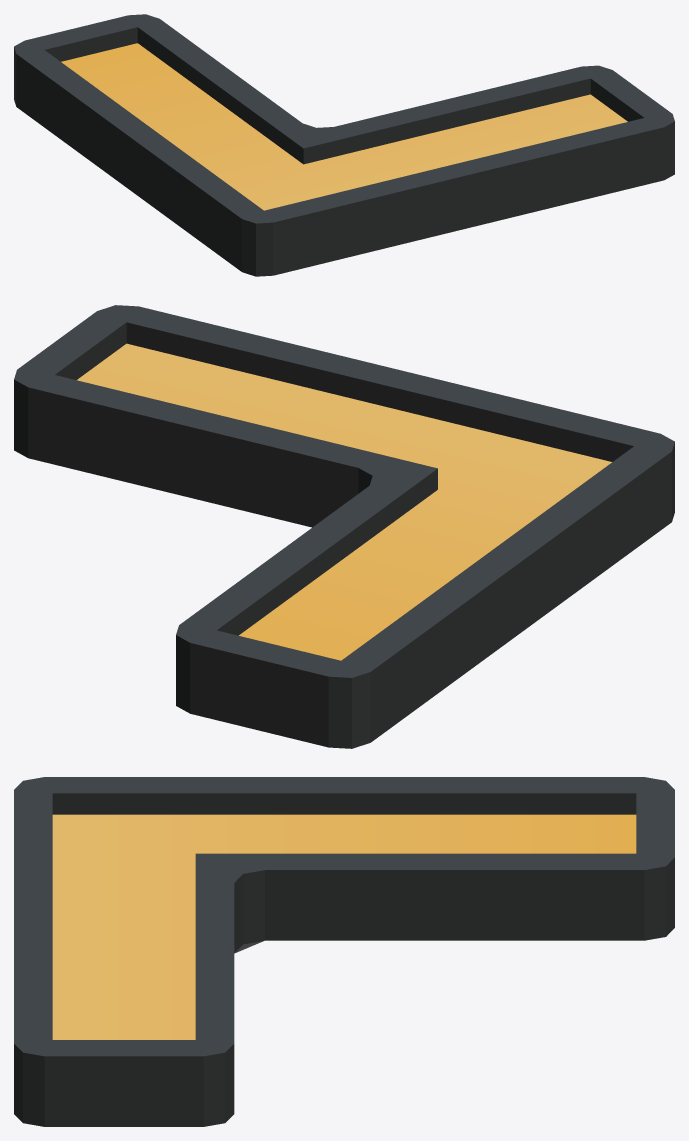
File: LightCorner_01.glb
3 views of the same model, one above another, from view 1: azimuth 30°, elevation 25°; view 2: azimuth 150°, elevation 25°; view 3: azimuth 270°, elevation 25° (orthographic). The views are drawn at different scales.
Visible parts, largest first — view 1: LightCorner_01; view 2: LightCorner_01; view 3: LightCorner_01.
Boxes of the visible parts, x1,y1,x2,y2 form: LightCorner_01: (14,14,674,276); LightCorner_01: (14,305,674,748); LightCorner_01: (14,777,674,1126).
Size of what is drawn, in the model's own units: 2 by 0.2357 by 2.
Materials: 1 (1 with a texture image).
